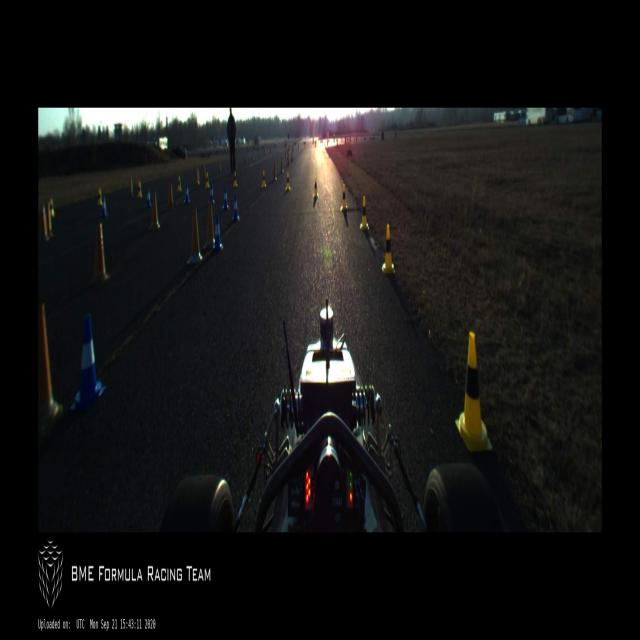blue_cone: (71, 315, 106, 409), (212, 213, 223, 253), (232, 190, 240, 222), (223, 186, 229, 211), (102, 196, 108, 218), (184, 183, 190, 205), (209, 183, 215, 205), (146, 188, 152, 208)
unknown_cone: (38, 302, 64, 433), (92, 222, 110, 284), (188, 207, 203, 266), (204, 198, 215, 250), (149, 190, 160, 231), (40, 204, 49, 242), (46, 202, 54, 238), (168, 182, 175, 209), (272, 160, 278, 182), (129, 176, 134, 198), (196, 164, 200, 186)
yellow_cone: (456, 330, 492, 455), (382, 223, 395, 275), (360, 196, 369, 231), (340, 183, 348, 211), (313, 176, 319, 198), (285, 172, 291, 192), (261, 171, 267, 188), (137, 182, 143, 198), (205, 172, 210, 190), (98, 188, 103, 206), (177, 175, 182, 192), (233, 171, 238, 187), (50, 198, 54, 217)
